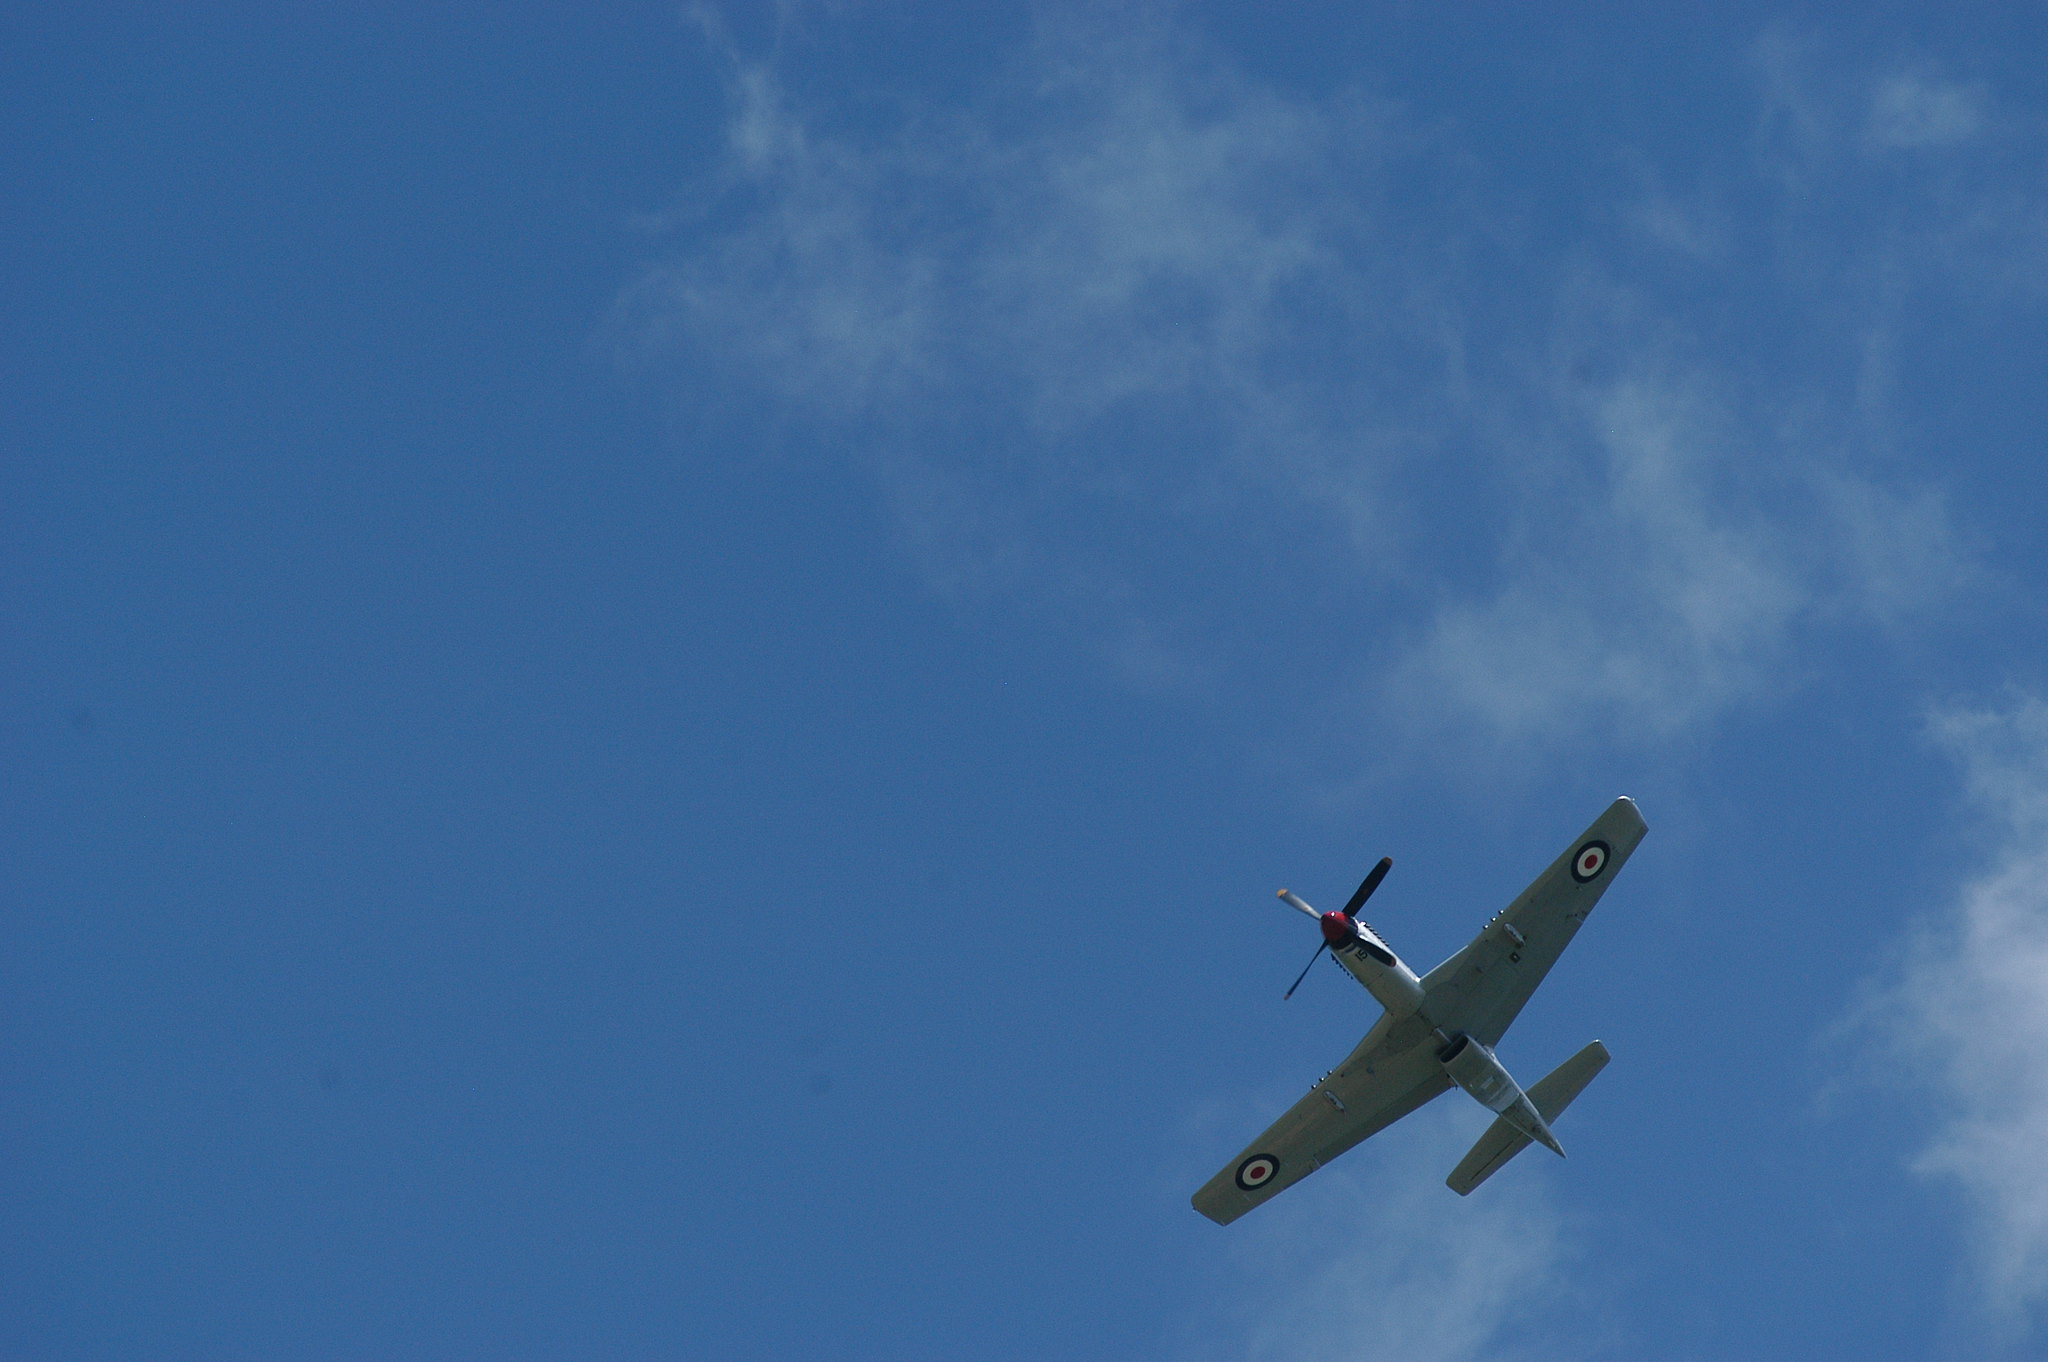aeroplane: (1185, 790, 1655, 1243)
